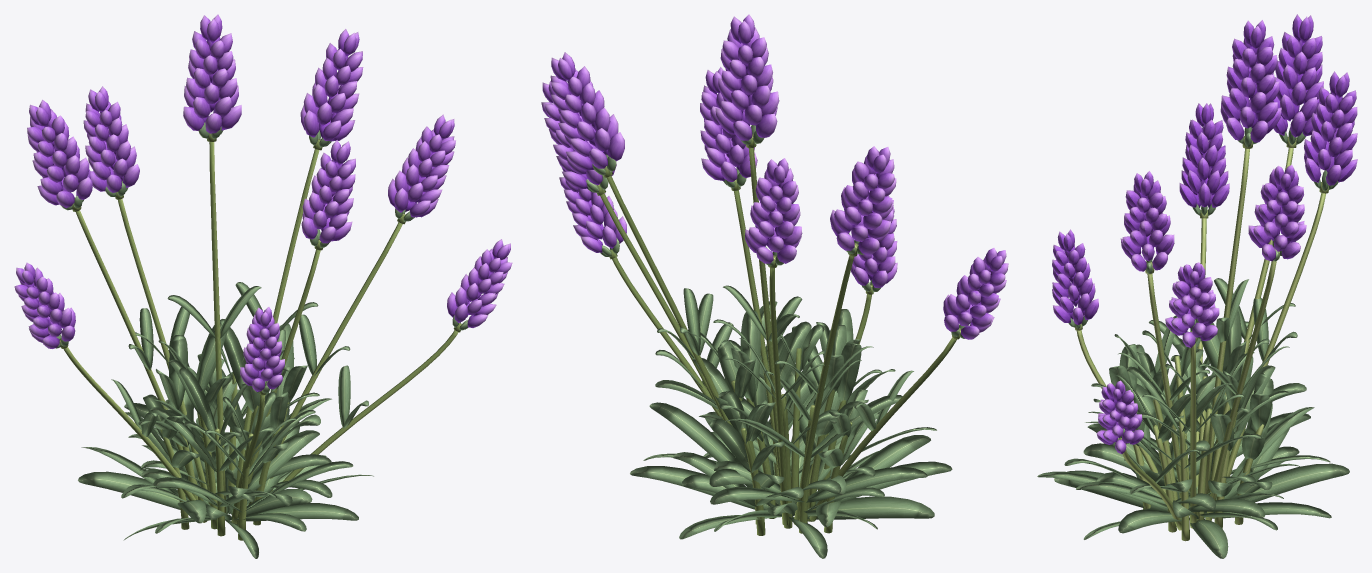
Rendered from NP_Lavender_Ready.fbx.
3 renders of one model, left to right at view 1: azimuth 30°, elevation 25°; view 2: azimuth 150°, elevation 25°; view 3: azimuth 270°, elevation 25°, orthographic. The views are drawn at different scales.
Visible parts, largest first — view 1: NP_Lavender_Ready; view 2: NP_Lavender_Ready; view 3: NP_Lavender_Ready.
Part boxes in pixels (x1,y1,x2,y2): NP_Lavender_Ready: [14, 14, 512, 558]; NP_Lavender_Ready: [541, 14, 1008, 558]; NP_Lavender_Ready: [1037, 14, 1357, 558].
Bounding box in the file's own units: 101 × 103 × 58.94.
